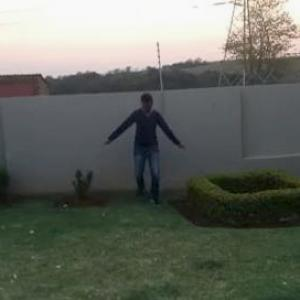land: (102, 90, 188, 210)
